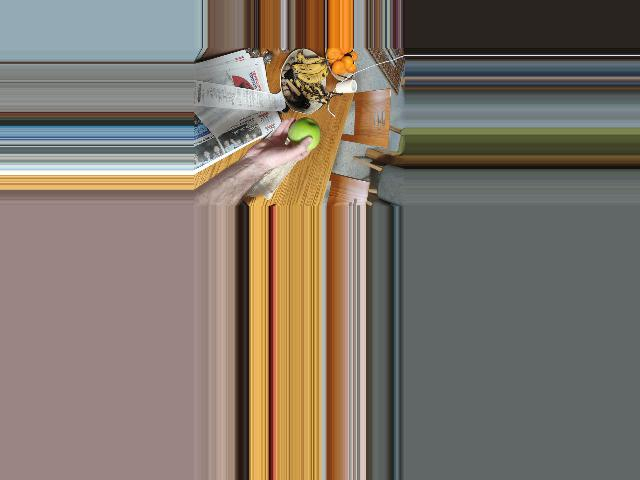apple: (282, 117, 322, 153)
